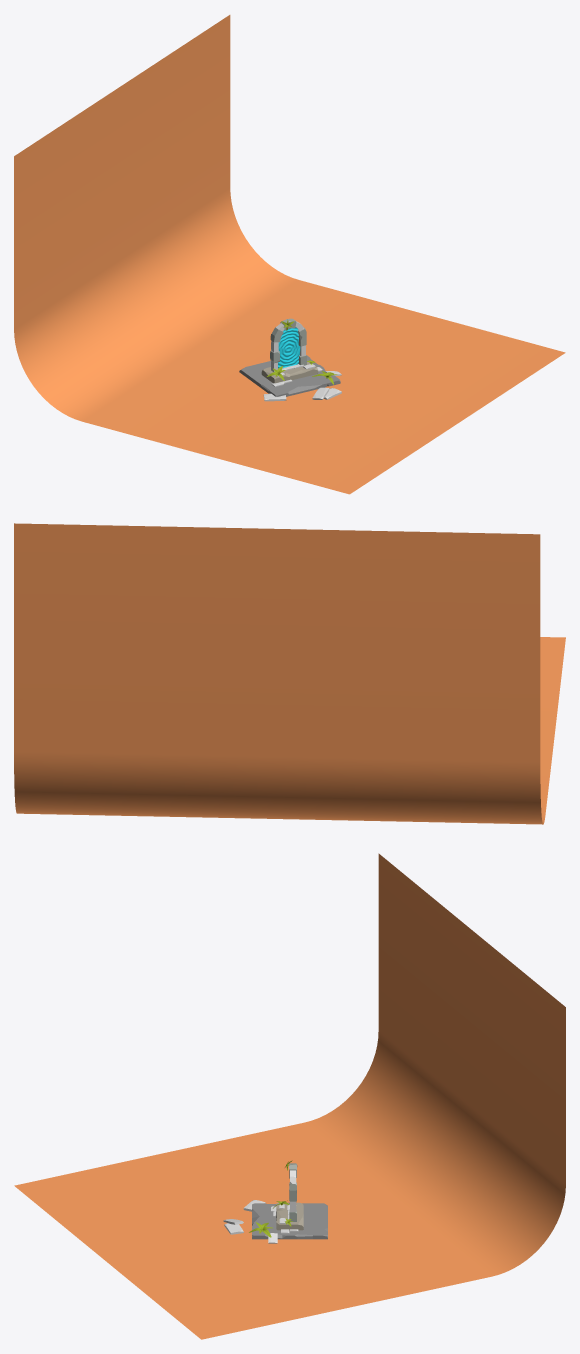
The model's file is portal.fbx.
3 renders of one model, top to bottom at view 1: azimuth 30°, elevation 25°; view 2: azimuth 150°, elevation 25°; view 3: azimuth 270°, elevation 25°, orthographic. The views are drawn at different scales.
Parts seen in each view (by area): view 1: 평면.005, 평면.004, 평면.003; view 2: 평면.005; view 3: 평면.005, 평면.004.
Part boxes in pixels (x1,y1,x2,y2): 평면.005: (14,15,565,494); 평면.004: (239,355,340,396); 평면.003: (278,327,300,368); 평면.005: (14,523,565,824); 평면.005: (14,853,565,1339); 평면.004: (252,1203,327,1239).
Bounding box in the file's own units: 4069 × 2065 × 4069.
